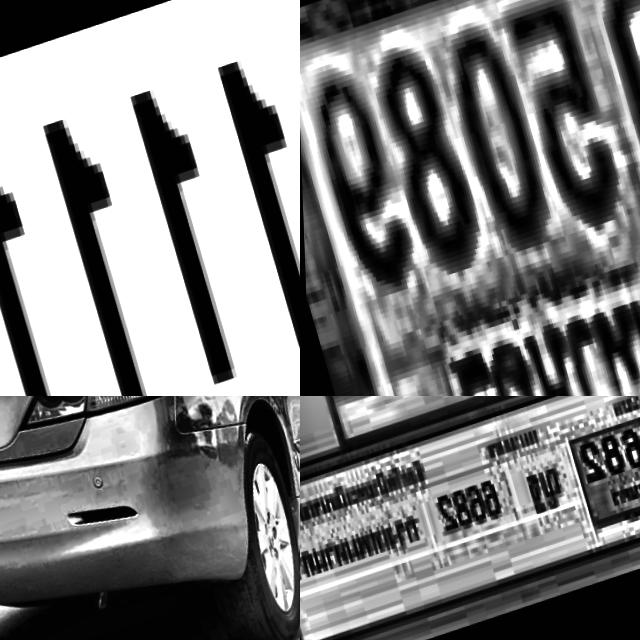license-plate: (300, 0, 640, 396), (0, 0, 300, 396), (564, 412, 640, 536)
